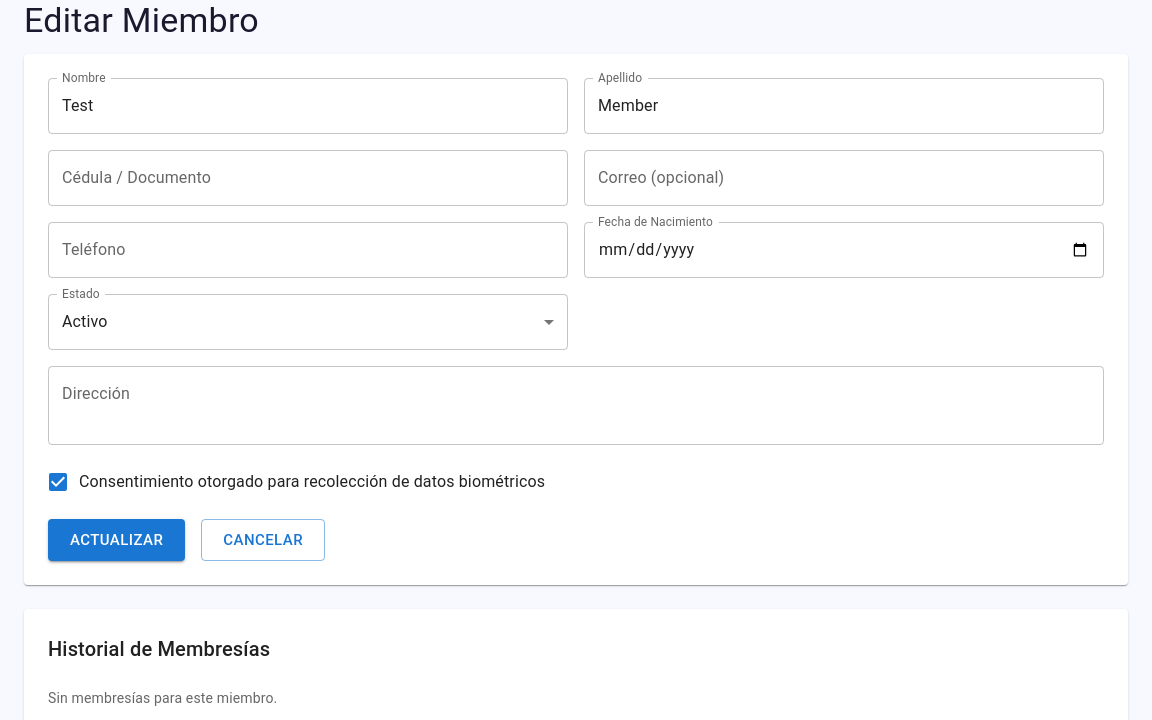
Test: MemberForm biometric consent › cancelling the confirmation leaves the enrollment alone
Click the checkbox at (296, 482), box [46,470,545,494]
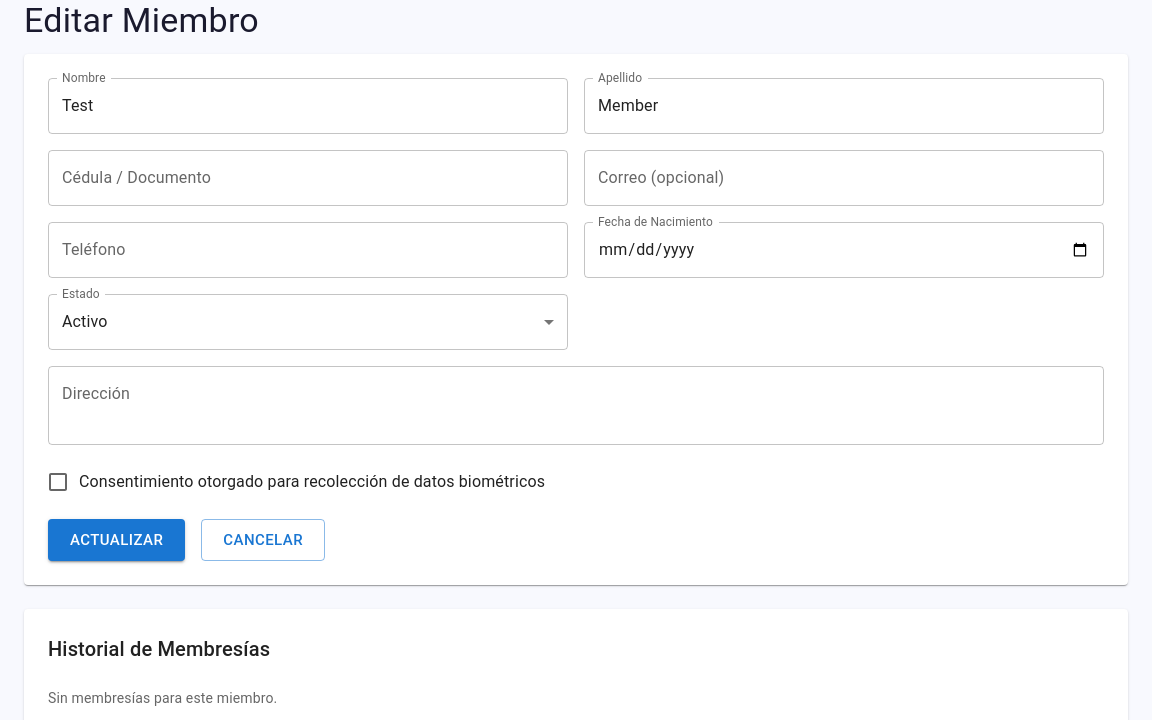
Click the button "Actualizar" at (117, 540), box [48,519,185,561]
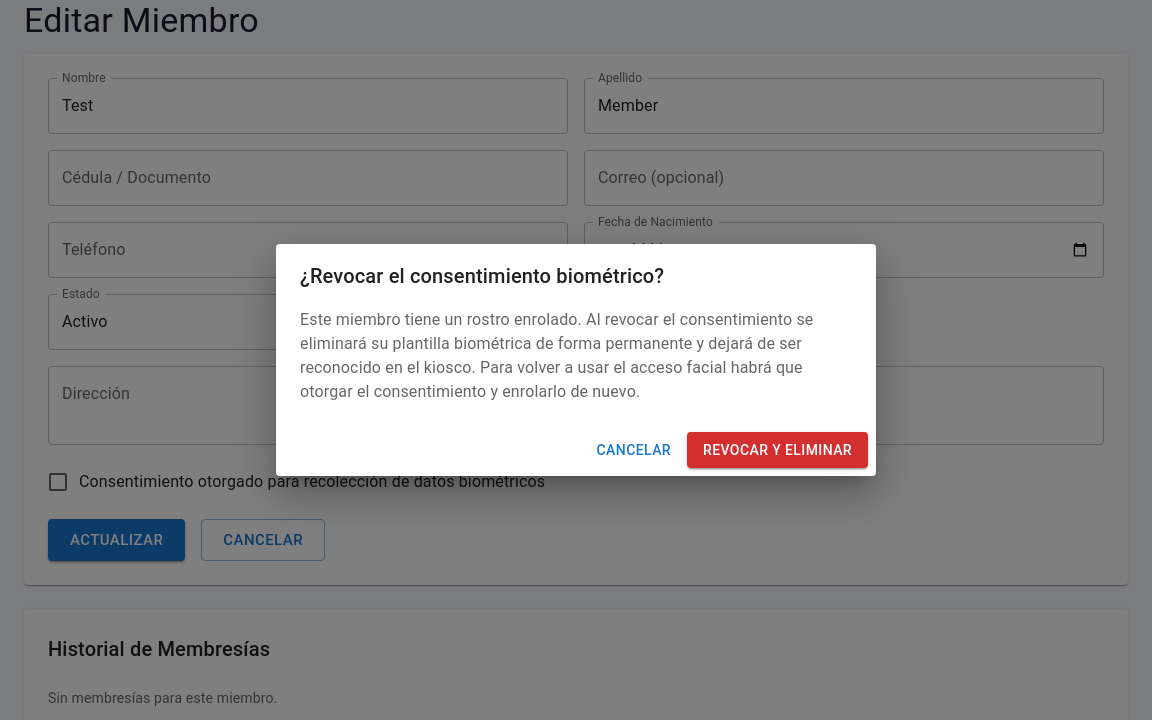
Click the button "Cancelar" at (634, 450), box [589,432,679,468]
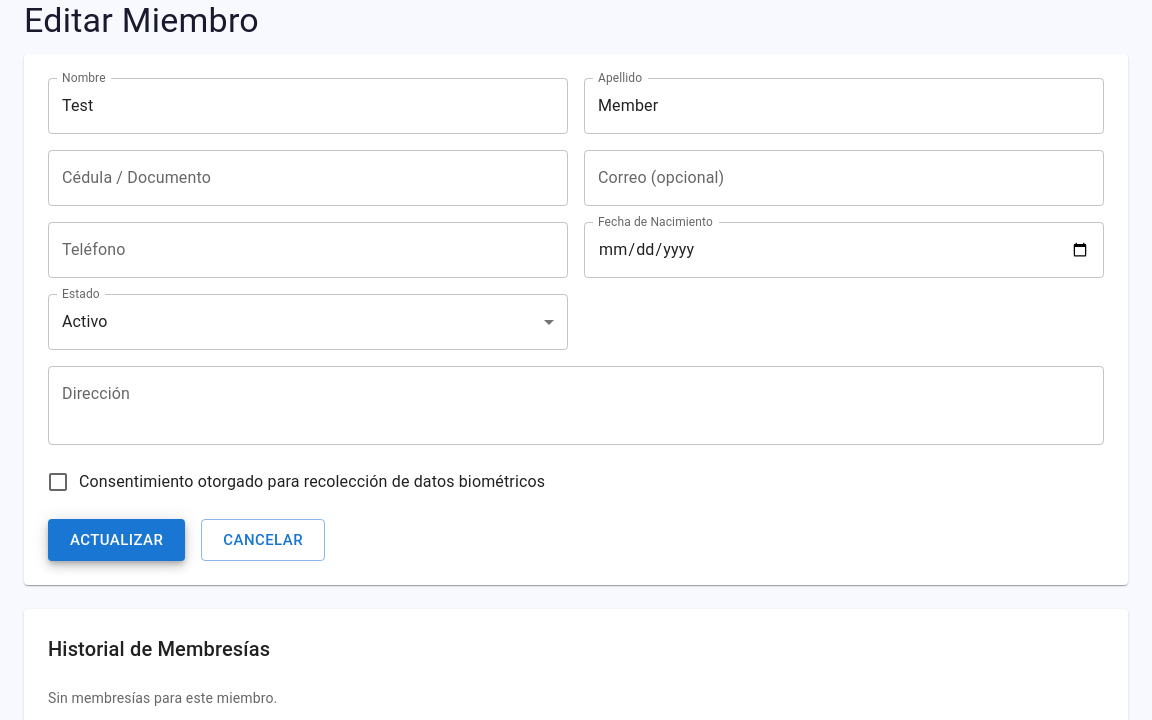
Expected: the button with test id "confirm-revoke-consent" is gone
